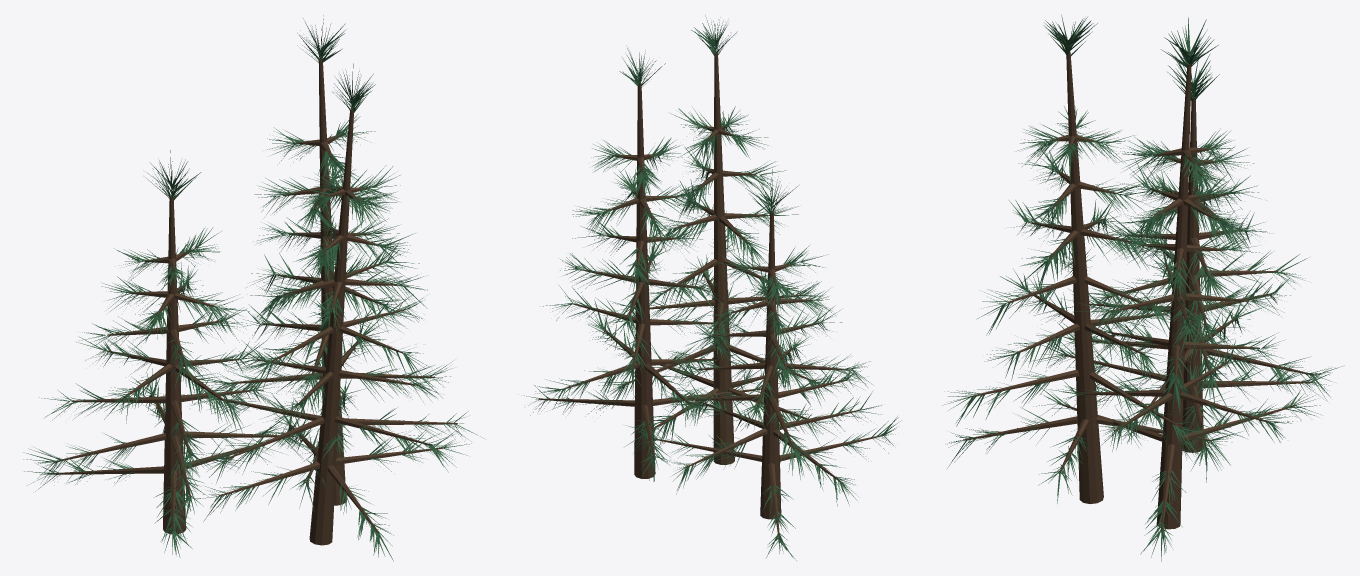
The model's file is detail_spruce_sapling.glb.
3 views of the same model, side by side, from view 1: azimuth 30°, elevation 25°; view 2: azimuth 150°, elevation 25°; view 3: azimuth 270°, elevation 25° (orthographic). The views are drawn at different scales.
Visible parts, largest first — view 1: IndividualSaplingNeedles1, IndividualSaplingNeedles0, IndividualSaplingNeedles2, SaplingTrunk1, SaplingTrunk0, SaplingTrunk2; view 2: IndividualSaplingNeedles0, IndividualSaplingNeedles2, IndividualSaplingNeedles1, SaplingTrunk1, SaplingTrunk2, SaplingTrunk0; view 3: IndividualSaplingNeedles2, IndividualSaplingNeedles1, IndividualSaplingNeedles0, SaplingTrunk1, SaplingTrunk2, SaplingTrunk0, SaplingBranch1_0_3, SaplingBranch1_1_2, SaplingBranch2_0_1.
Part boxes in pixels (bbox=[...]): IndividualSaplingNeedles1: bbox=[196, 63, 471, 561]; IndividualSaplingNeedles0: bbox=[23, 150, 315, 557]; IndividualSaplingNeedles2: bbox=[182, 15, 484, 512]; SaplingTrunk1: bbox=[309, 108, 353, 545]; SaplingTrunk0: bbox=[163, 196, 186, 534]; SaplingTrunk2: bbox=[318, 58, 346, 505]; IndividualSaplingNeedles0: bbox=[632, 169, 900, 560]; IndividualSaplingNeedles2: bbox=[524, 45, 782, 481]; IndividualSaplingNeedles1: bbox=[598, 15, 846, 456]; SaplingTrunk1: bbox=[713, 52, 734, 464]; SaplingTrunk2: bbox=[634, 83, 655, 478]; SaplingTrunk0: bbox=[760, 212, 781, 519]; IndividualSaplingNeedles2: bbox=[1033, 17, 1320, 561]; IndividualSaplingNeedles1: bbox=[943, 14, 1244, 503]; IndividualSaplingNeedles0: bbox=[1028, 53, 1344, 482]; SaplingTrunk1: bbox=[1066, 52, 1103, 503]; SaplingTrunk2: bbox=[1156, 63, 1191, 529]; SaplingTrunk0: bbox=[1182, 97, 1203, 452]; SaplingBranch1_0_3: bbox=[963, 416, 1077, 440]; SaplingBranch1_1_2: bbox=[972, 369, 1079, 396]; SaplingBranch2_0_1: bbox=[1182, 405, 1295, 441].
Bounding box in the file's own units: 1.62 × 1.79 × 1.33.
